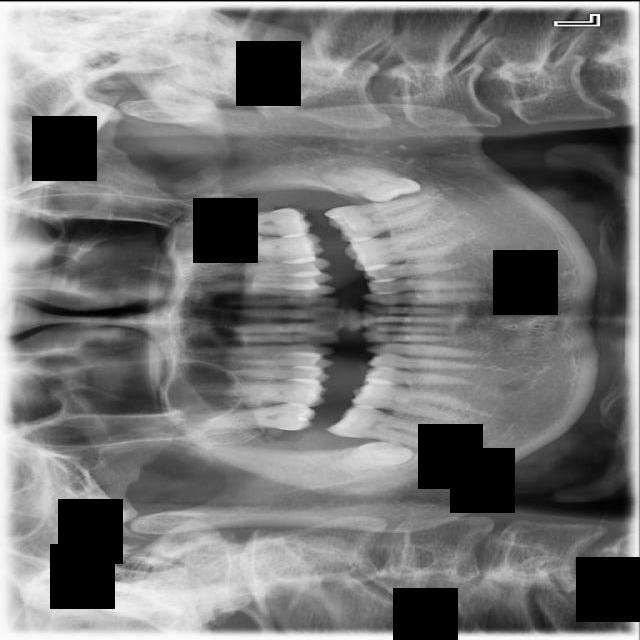52: (269, 401, 317, 431)
73: (560, 30, 566, 34)
BioHorizons Implant: (187, 206, 313, 240)
Biomet 3i Implant: (316, 147, 424, 215)
Blue Sky Bio Implant: (324, 192, 437, 245)
Caries: (182, 401, 316, 433)
Implant: (325, 400, 442, 450)
Keystone Dental Implant: (337, 431, 415, 480)
